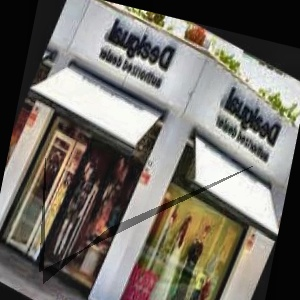desigual: (110, 30, 300, 126), (149, 16, 218, 40)
